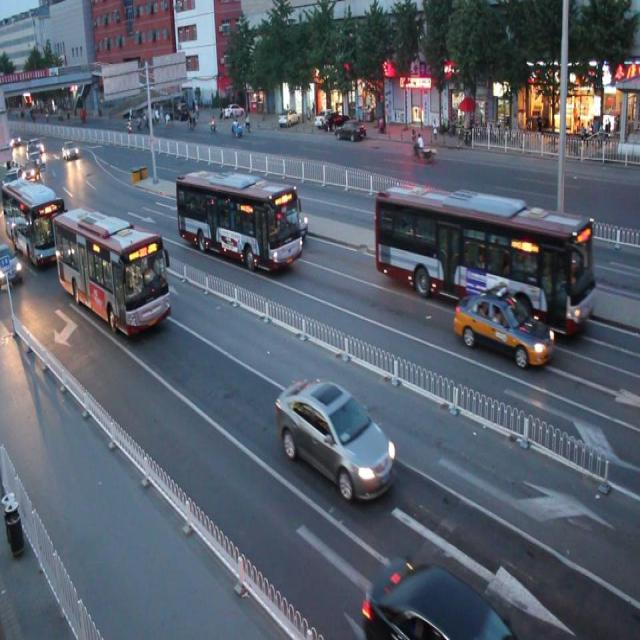car: (273, 374, 393, 505), (362, 550, 512, 640), (453, 289, 551, 368), (263, 198, 308, 242)
van: (375, 179, 593, 335), (51, 204, 171, 335), (174, 168, 301, 272)
